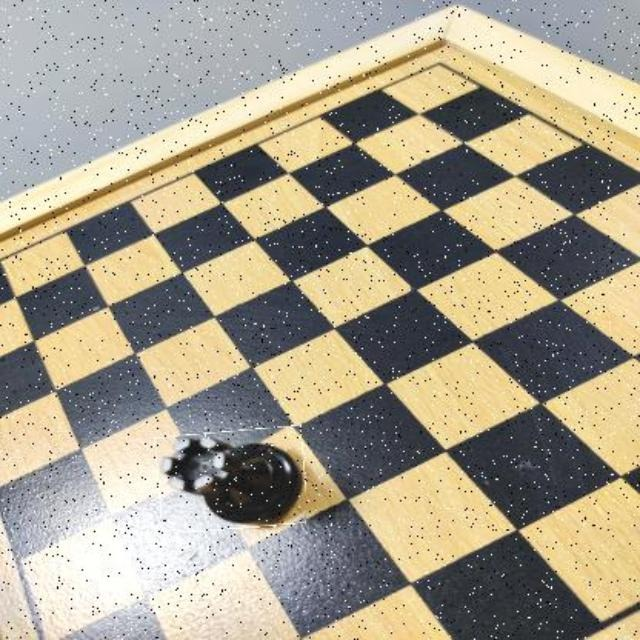black-rook: (157, 427, 307, 530)
